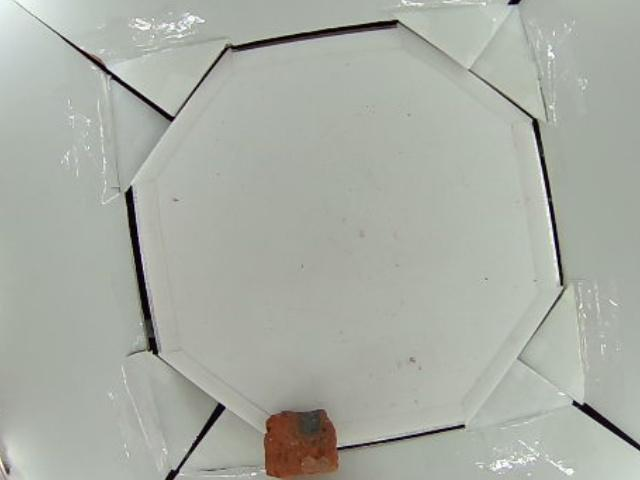Brisk: (265, 409, 338, 476)
